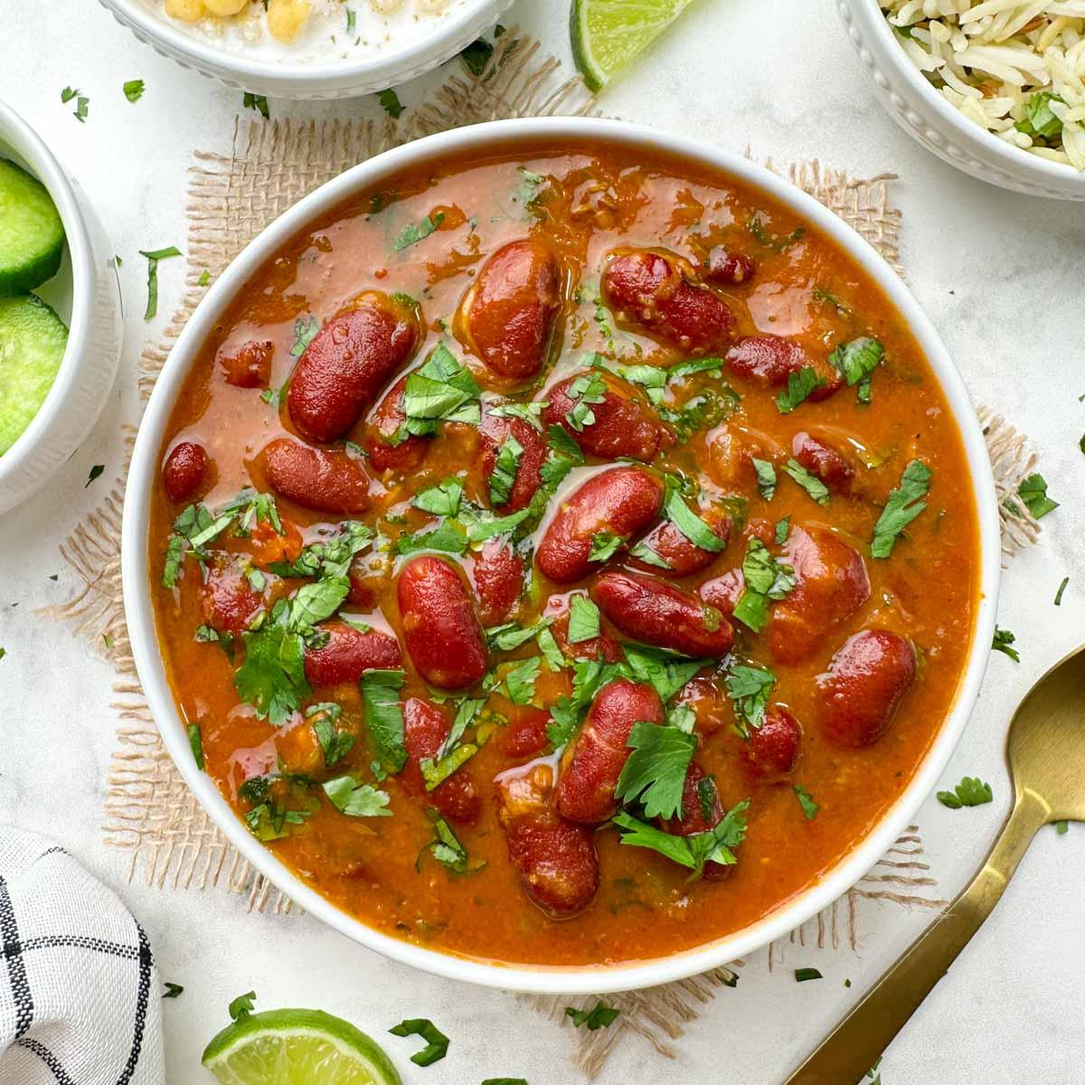rajma: (190, 175, 943, 977)
